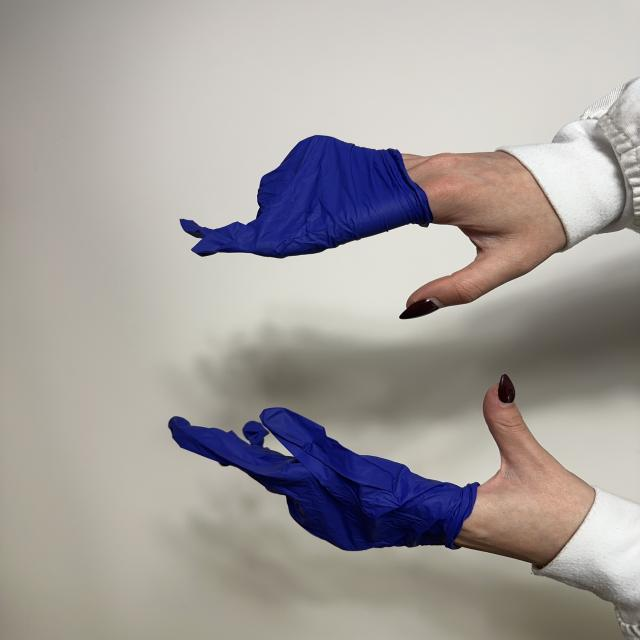glove_partial: (169, 374, 604, 570), (181, 136, 567, 319)
